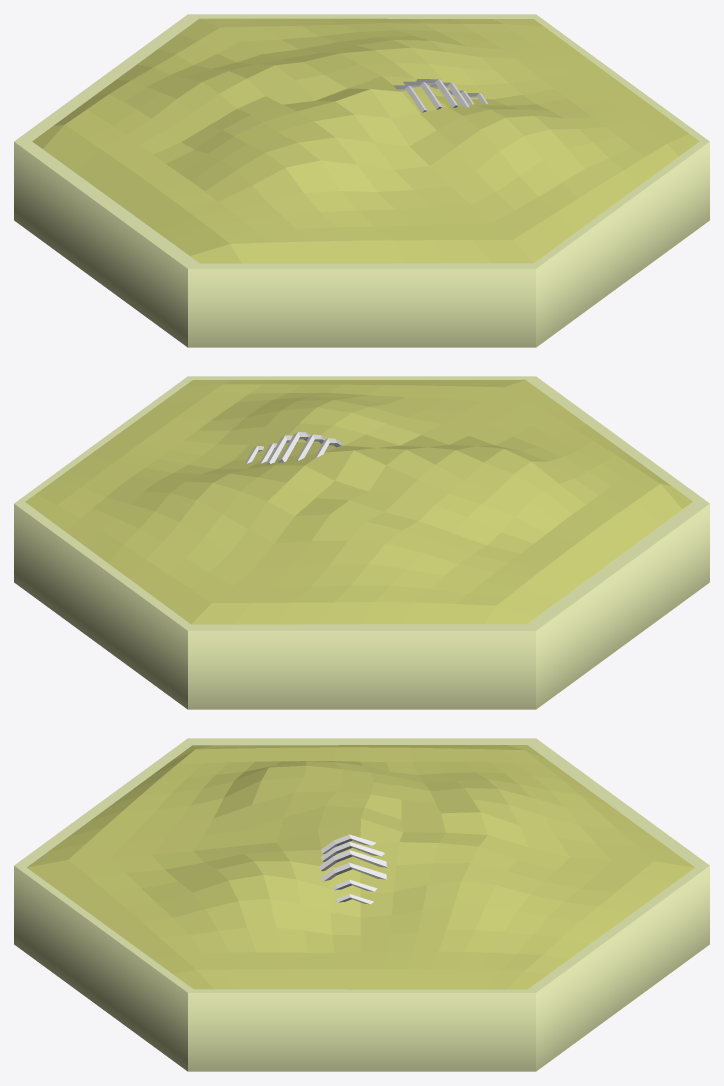
The model's file is desert.fbx.
3 views of the same model, one above another, from view 1: azimuth 30°, elevation 25°; view 2: azimuth 150°, elevation 25°; view 3: azimuth 270°, elevation 25° (orthographic).
Parts seen in each view (by area): view 1: Plane, Hexagon; view 2: Plane, Hexagon; view 3: Plane, Hexagon, Cube.002.
Part boxes in pixels (x1,y1,x2,y2): Plane: (32,18,699,263); Hexagon: (14,14,709,347); Plane: (25,379,692,624); Hexagon: (14,376,709,709); Plane: (27,745,694,989); Hexagon: (14,738,709,1071); Cube.002: (319,850,386,871).
Size of the model in its own units: 346 by 82.24 by 400.
